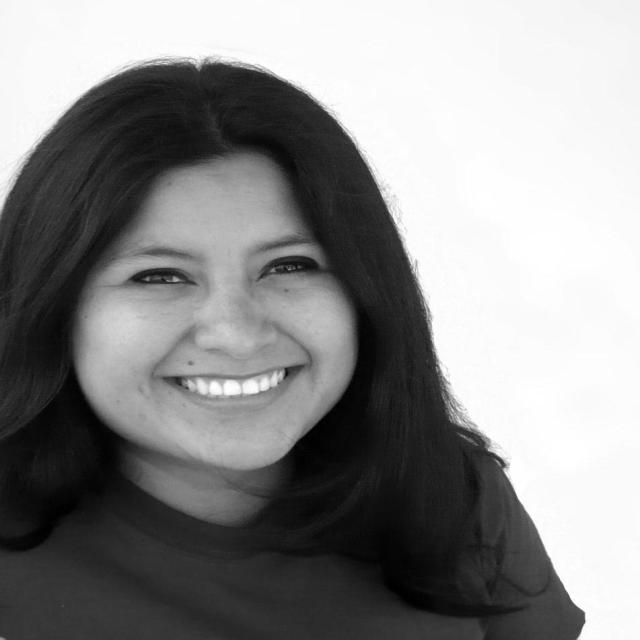no-glass: (124, 256, 325, 284)
